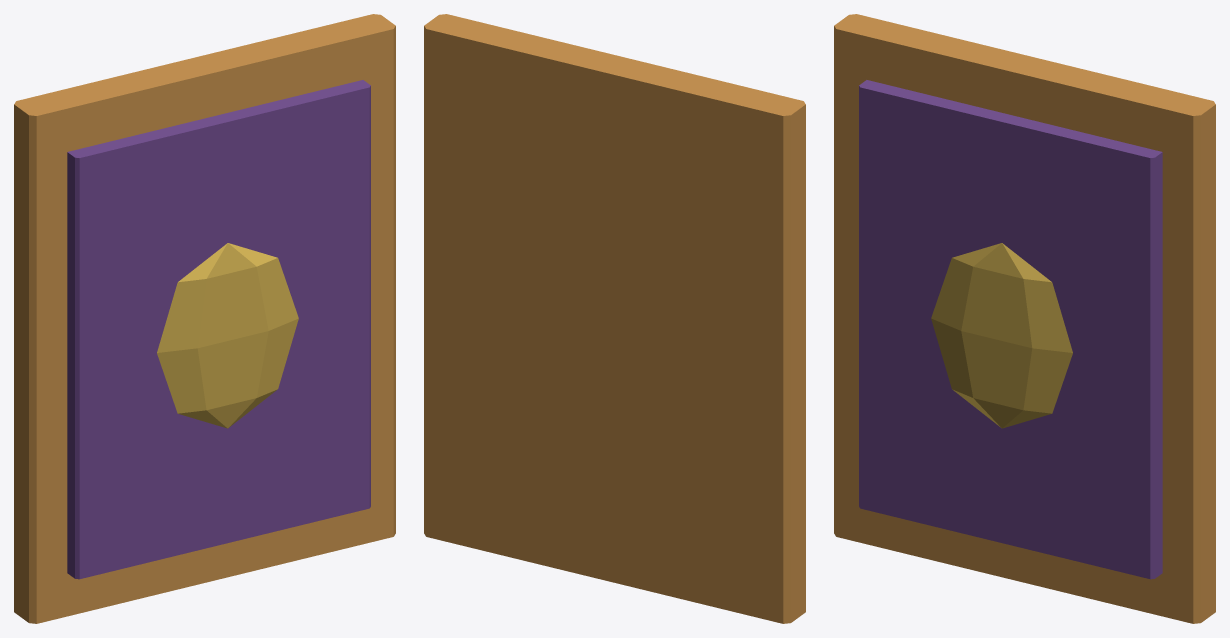
Rendered from Banner.fbx.
The picture shows the model from 3 angles, left to right: view 1: azimuth 30°, elevation 25°; view 2: azimuth 150°, elevation 25°; view 3: azimuth 330°, elevation 25°; orthographic projection.
Parts seen in each view (by area): view 1: Banner.005; view 2: Banner.005; view 3: Banner.005.
Boxes of the visible parts, x1=… form: Banner.005: x1=14, y1=14, x2=395, y2=623; Banner.005: x1=424, y1=14, x2=805, y2=623; Banner.005: x1=834, y1=14, x2=1215, y2=623.
Bounding box in the file's own units: 62 × 82 × 11.26.
